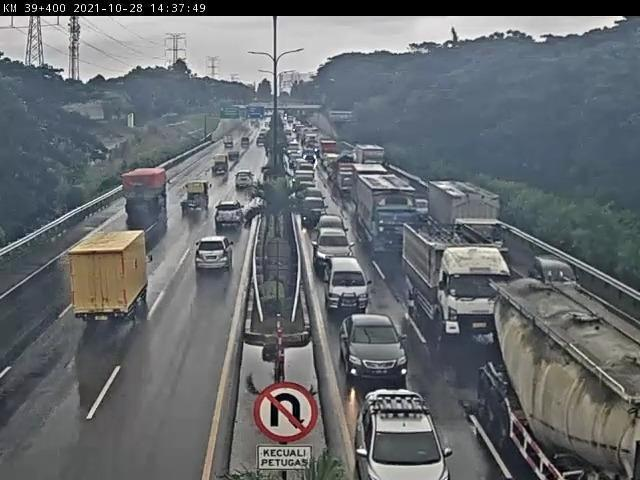car: (355, 385, 464, 480), (334, 305, 413, 393), (523, 240, 587, 298), (326, 254, 385, 310), (193, 237, 245, 278), (315, 225, 361, 265), (219, 202, 260, 233), (236, 162, 263, 193), (227, 151, 256, 171), (308, 196, 332, 218), (320, 211, 346, 228), (241, 131, 258, 151)
truck: (478, 274, 640, 480), (396, 211, 511, 337), (63, 216, 164, 352), (420, 151, 515, 263), (105, 152, 173, 259), (353, 174, 431, 257), (177, 180, 218, 218), (352, 137, 391, 173), (212, 150, 239, 181), (223, 134, 241, 150)
